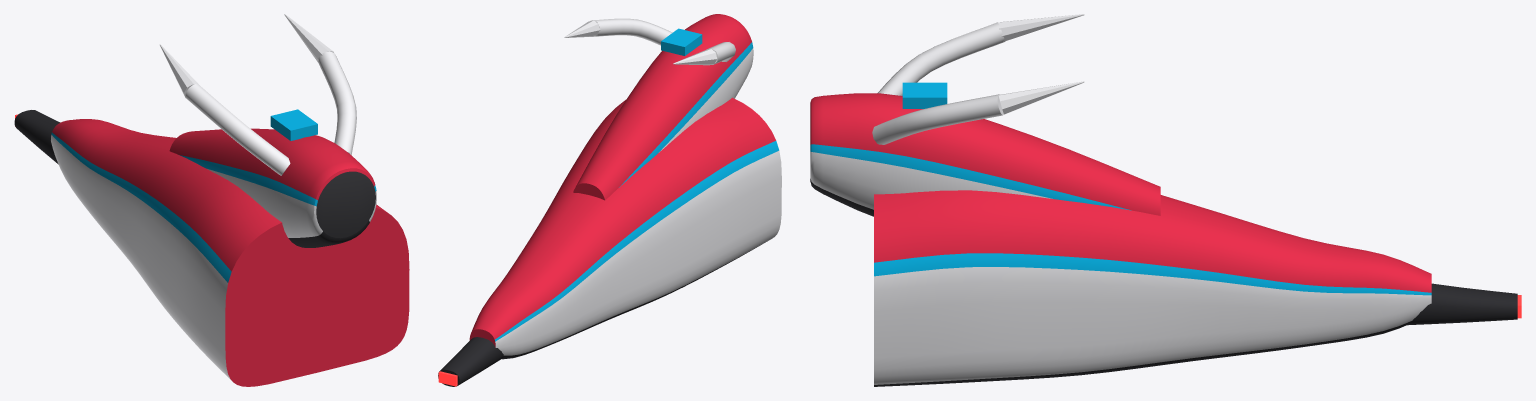
The model's file is horns.glb.
The picture shows the model from 3 angles, left to right: view 1: azimuth 30°, elevation 25°; view 2: azimuth 150°, elevation 25°; view 3: azimuth 270°, elevation 25°; orthographic projection. The views are drawn at different scales.
Visible parts, largest first — view 1: EngineCover_horns; view 2: EngineCover_horns; view 3: EngineCover_horns.
Boxes of the visible parts, x1,y1,x2,y2 form: EngineCover_horns: (14,14,409,386); EngineCover_horns: (438,14,781,386); EngineCover_horns: (810,14,1521,386).
Size of the model in its own units: 0.74 by 1.05 by 2.23.
